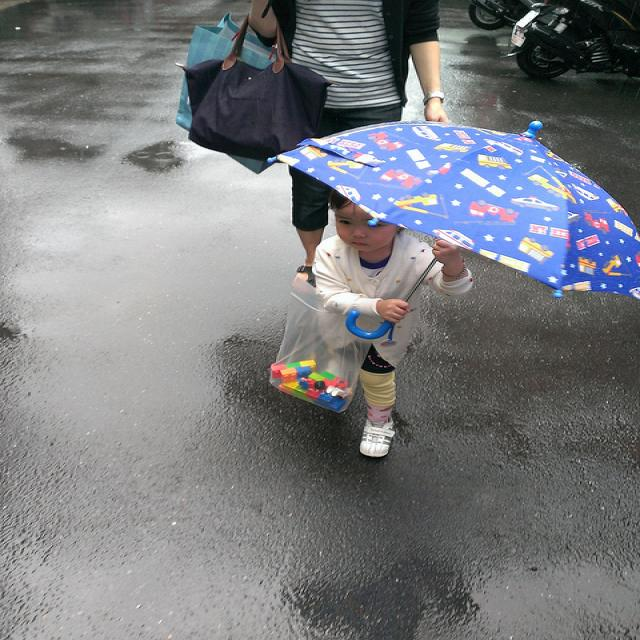motor: (504, 0, 639, 81), (467, 0, 536, 29)
